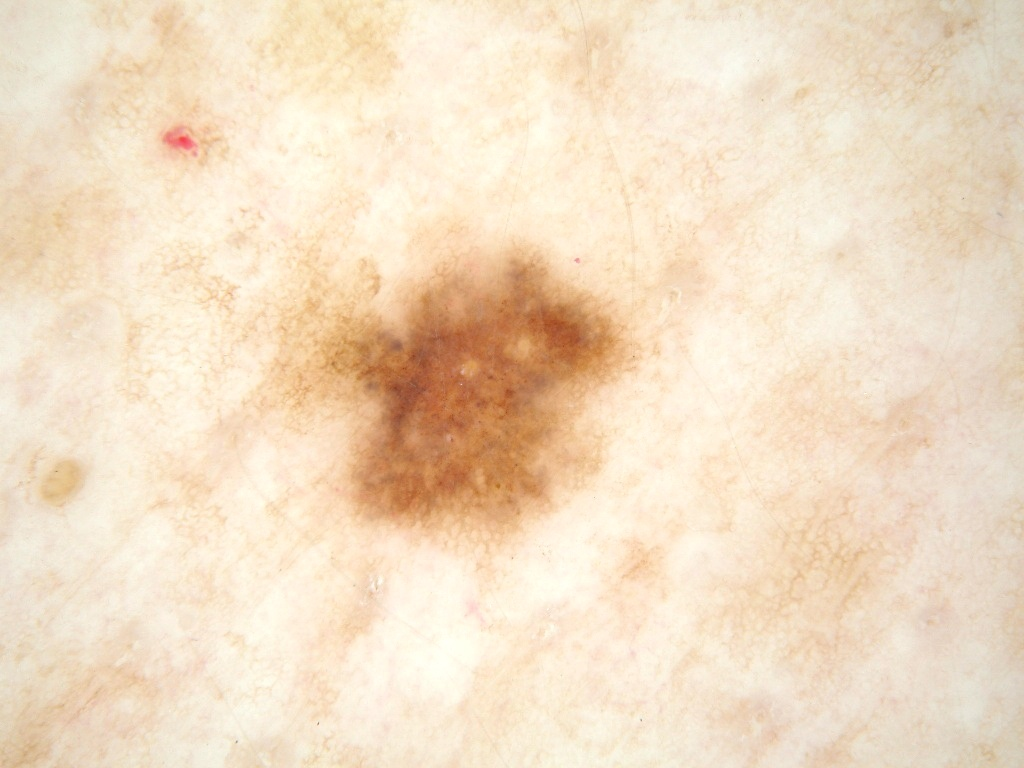Detected Lesion: (272, 233, 647, 545)
